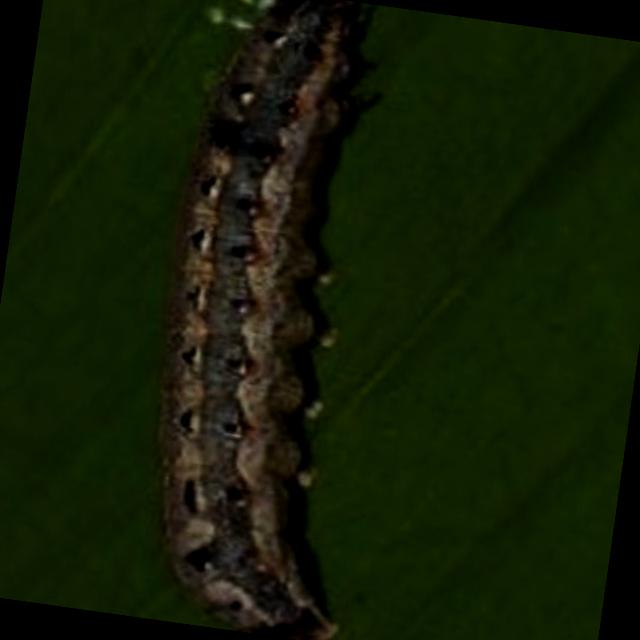Tobacco cutworm: (73, 0, 484, 640)
